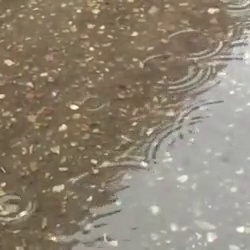drop: (170, 98, 229, 144), (142, 52, 210, 88), (148, 124, 203, 164), (165, 29, 224, 58), (1, 196, 34, 223), (82, 95, 105, 111)
